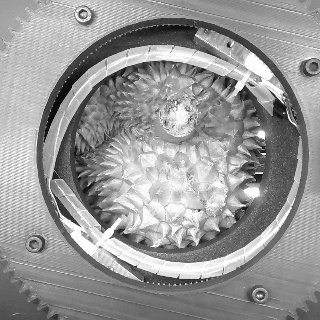base: (151, 115, 202, 148)
end: (158, 100, 198, 138)
